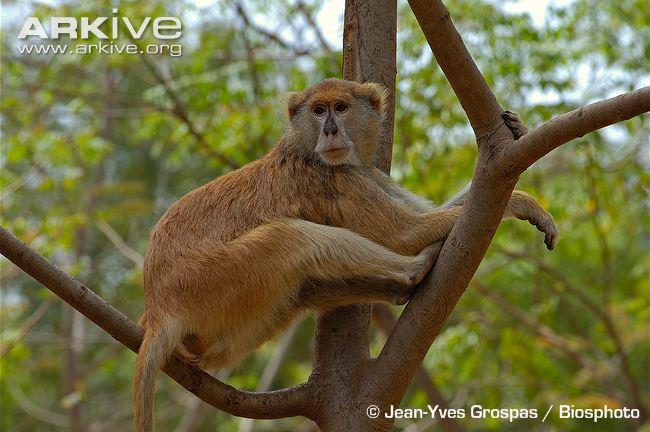monkey: (138, 79, 464, 424)
